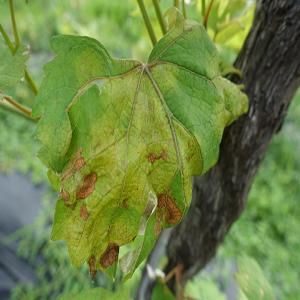Folha: (30, 6, 250, 291)
Fungo: (57, 146, 119, 280), (59, 145, 97, 219), (153, 190, 182, 238), (60, 146, 85, 182), (75, 171, 97, 199), (99, 242, 119, 270), (164, 195, 182, 225), (147, 148, 167, 164), (60, 160, 74, 182), (87, 254, 96, 282), (59, 184, 70, 206), (108, 244, 119, 266), (73, 155, 85, 171), (79, 202, 89, 220), (157, 193, 166, 209), (120, 196, 130, 209), (159, 148, 167, 162), (147, 152, 156, 164), (24, 0, 28, 3)
